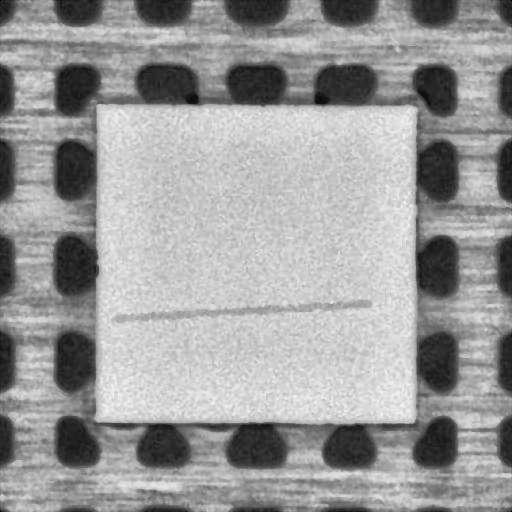DIE_CRACK: (114, 304, 368, 318)
